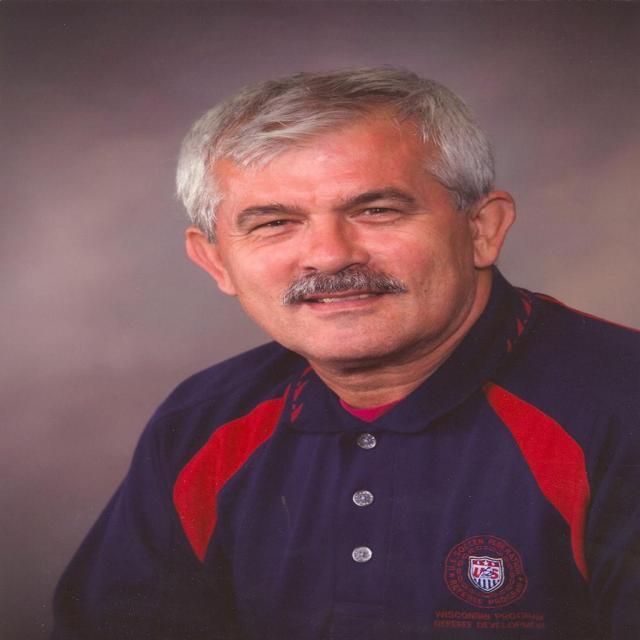Face: (172, 87, 522, 369)
